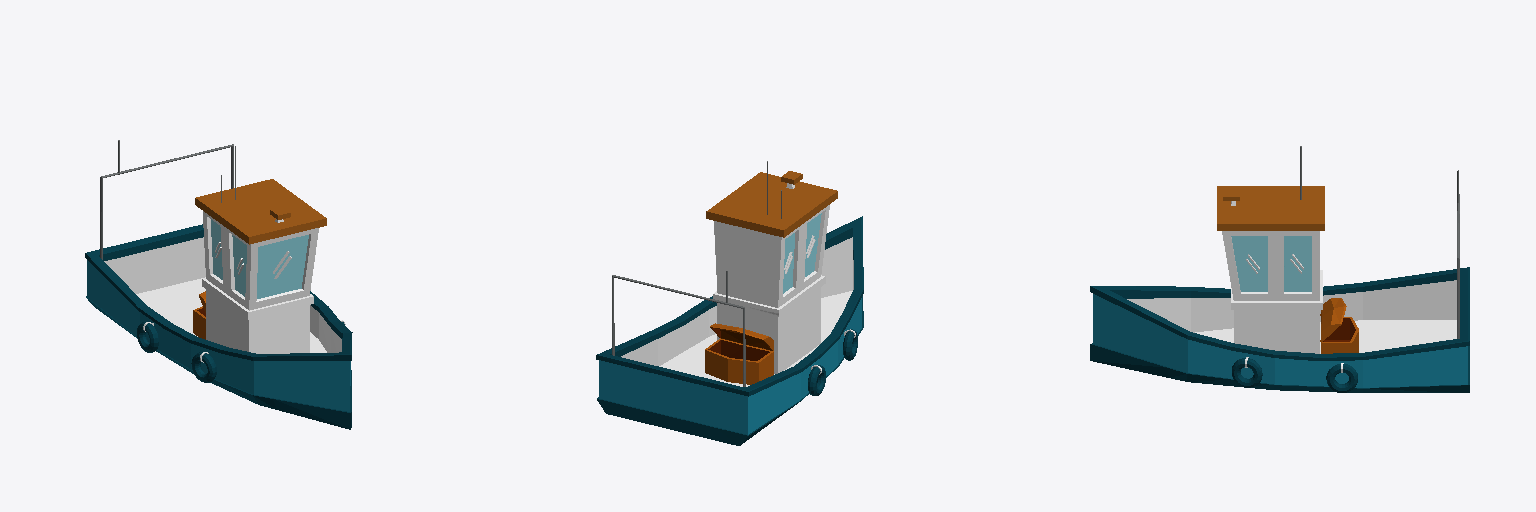
3 renders of one model, left to right at view 1: azimuth 30°, elevation 25°; view 2: azimuth 150°, elevation 25°; view 3: azimuth 270°, elevation 25°, orthographic.
Parts seen in each view (by area): view 1: Boat_LP, lifebuoys_LP, Pole_LP; view 2: Boat_LP, Chest_bottom_LP, lifebuoys_LP, Chest_top_LP, Pole_LP; view 3: Boat_LP, lifebuoys_LP, Chest_bottom_LP, Chest_top_LP.
Boxes of the visible parts, x1,y1,x2,y2 form: Boat_LP: [85, 179, 352, 429]; lifebuoys_LP: [137, 320, 345, 382]; Pole_LP: [100, 144, 233, 259]; Boat_LP: [596, 172, 863, 445]; Chest_bottom_LP: [705, 338, 773, 384]; lifebuoys_LP: [655, 328, 857, 395]; Chest_top_LP: [710, 323, 773, 350]; Pole_LP: [612, 275, 745, 386]; Boat_LP: [1090, 186, 1469, 392]; lifebuoys_LP: [1232, 357, 1357, 392]; Chest_bottom_LP: [1321, 317, 1358, 353]; Chest_top_LP: [1320, 298, 1346, 342].
Bounding box in the file's own units: 23.49 × 28.18 × 46.42.
1 materials, 1 textured.